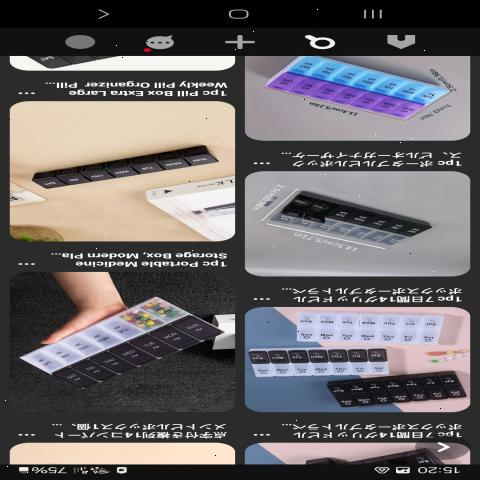PillBox: (25, 298, 229, 400), (242, 182, 449, 258), (25, 132, 233, 206), (242, 343, 387, 382), (326, 370, 462, 410)
